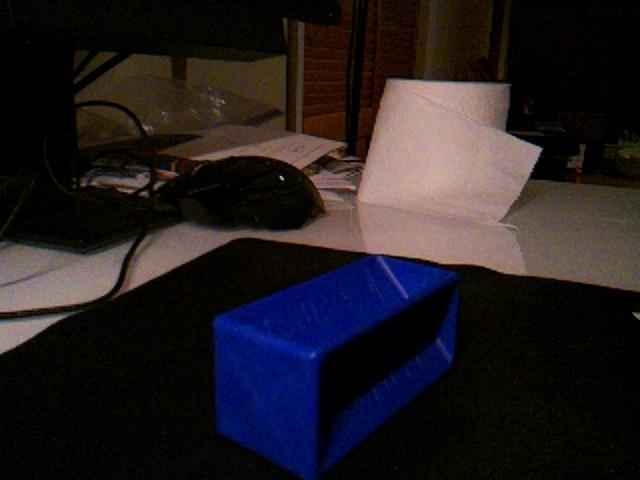blue: (211, 253, 462, 478)
